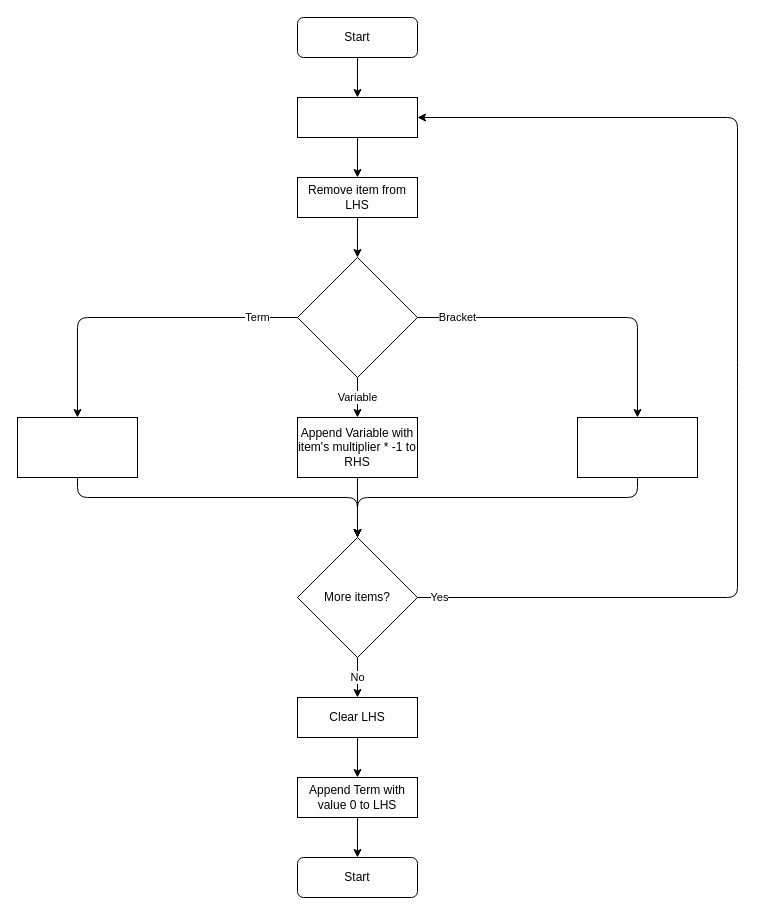
This 763x915 diagram has some shape labels left out. The centre of each missing label's shape, as x and y in pixels:
"Append Bracket with item's multiplier * -1 to RHS" goes at (637,447).
"Append Term with item's value * -1 to RHS" goes at (77,447).
"Next item in LHS" goes at (357,117).
"Variable, Term or Bracket?" goes at (357,317).
